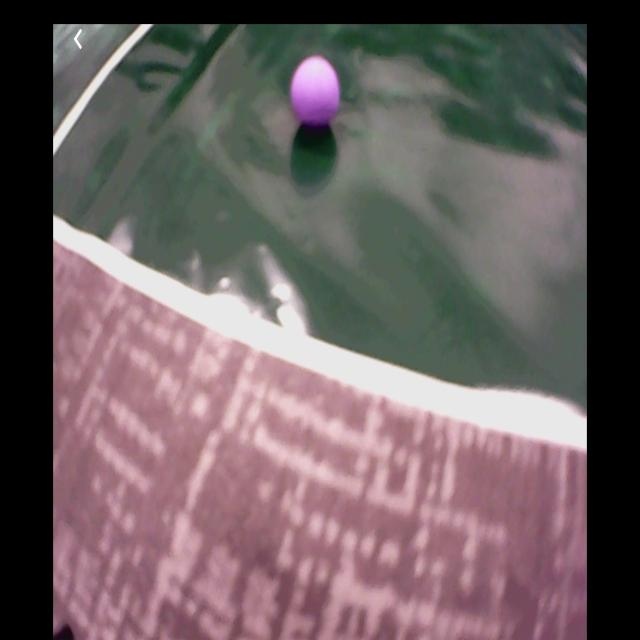ball: (293, 57, 341, 132)
